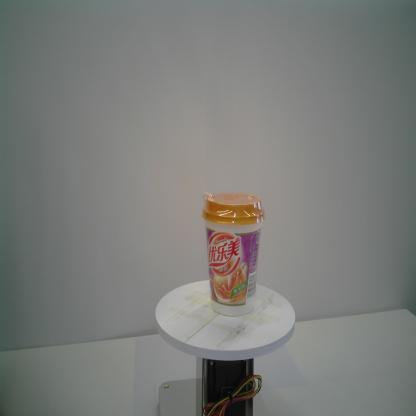Instant Drink: (201, 190, 265, 316)
